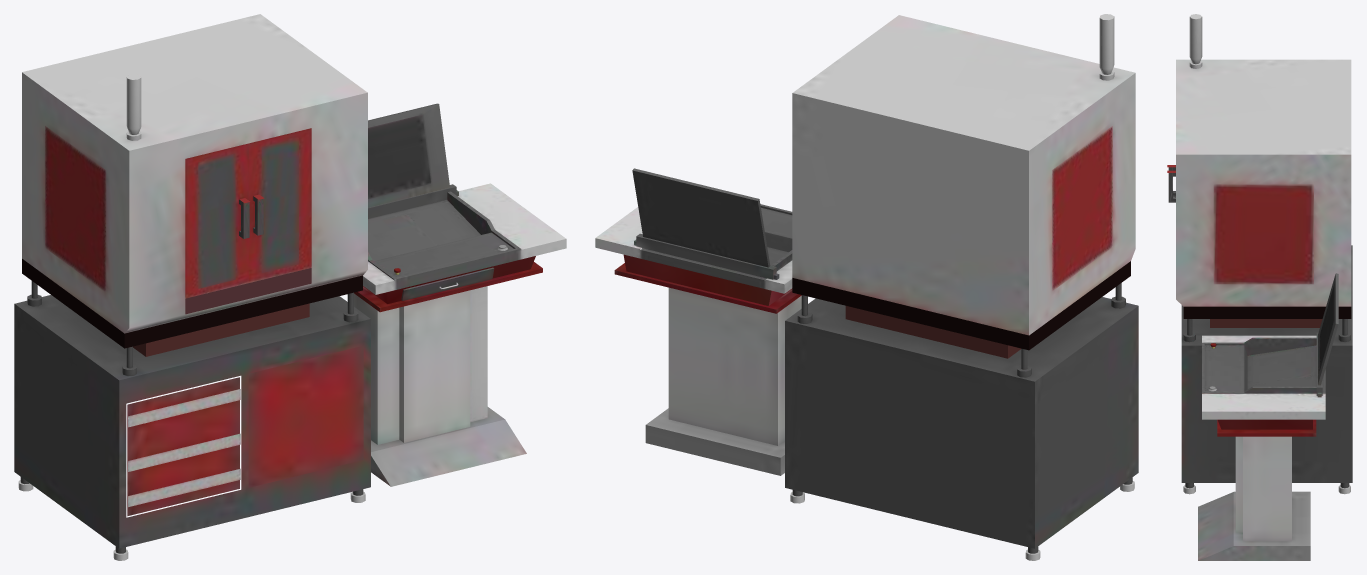
The picture shows the model from 3 angles, left to right: view 1: azimuth 30°, elevation 25°; view 2: azimuth 150°, elevation 25°; view 3: azimuth 270°, elevation 25°; orthographic projection. The views are drawn at different scales.
Visible parts, largest first — view 1: DTM4100_0; view 2: DTM4100_0; view 3: DTM4100_0.
Boxes of the visible parts, left/top/right/bottom form: DTM4100_0: left=14, top=14, right=566, bottom=560; DTM4100_0: left=595, top=14, right=1138, bottom=560; DTM4100_0: left=1167, top=14, right=1352, bottom=560.
Bounding box in the file's own units: 1.73 × 1.71 × 0.7423.
1 material, 1 textured.
